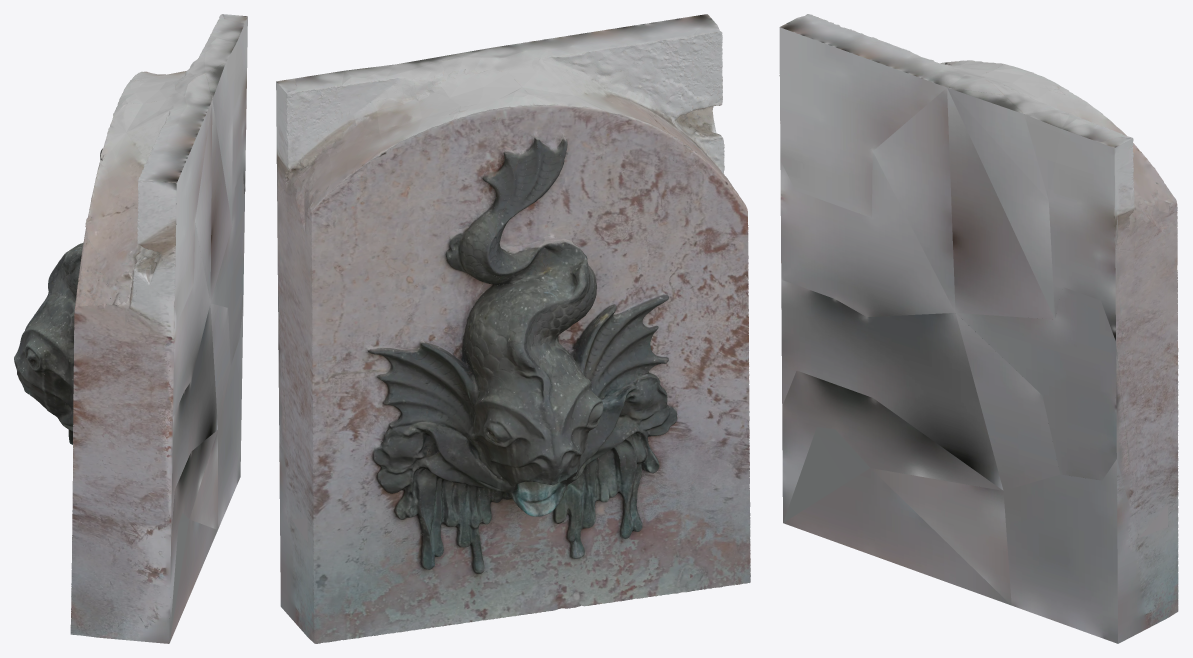
File: sf-fish-fountain-sprinkler-9df20f.glb
3 views of the same model, side by side, from view 1: azimuth 30°, elevation 25°; view 2: azimuth 150°, elevation 25°; view 3: azimuth 270°, elevation 25° (orthographic). The views are drawn at different scales.
Visible parts, largest first — view 1: meshNode_Material_u1_v1_0, meshNode_Material_u2_v1_0; view 2: meshNode_Material_u1_v1_0, meshNode_Material_u2_v1_0; view 3: meshNode_Material_u2_v1_0, meshNode_Material_u1_v1_0.
Boxes of the visible parts, bbox=[...] form: meshNode_Material_u1_v1_0: bbox=[14, 14, 247, 643]; meshNode_Material_u2_v1_0: bbox=[14, 17, 247, 643]; meshNode_Material_u1_v1_0: bbox=[276, 14, 750, 643]; meshNode_Material_u2_v1_0: bbox=[276, 32, 750, 643]; meshNode_Material_u2_v1_0: bbox=[779, 27, 1178, 643]; meshNode_Material_u1_v1_0: bbox=[779, 14, 1178, 605].
Bounding box in the file's own units: 0.6971 × 1.04 × 0.746.
Materials: 2 (2 with a texture image).
